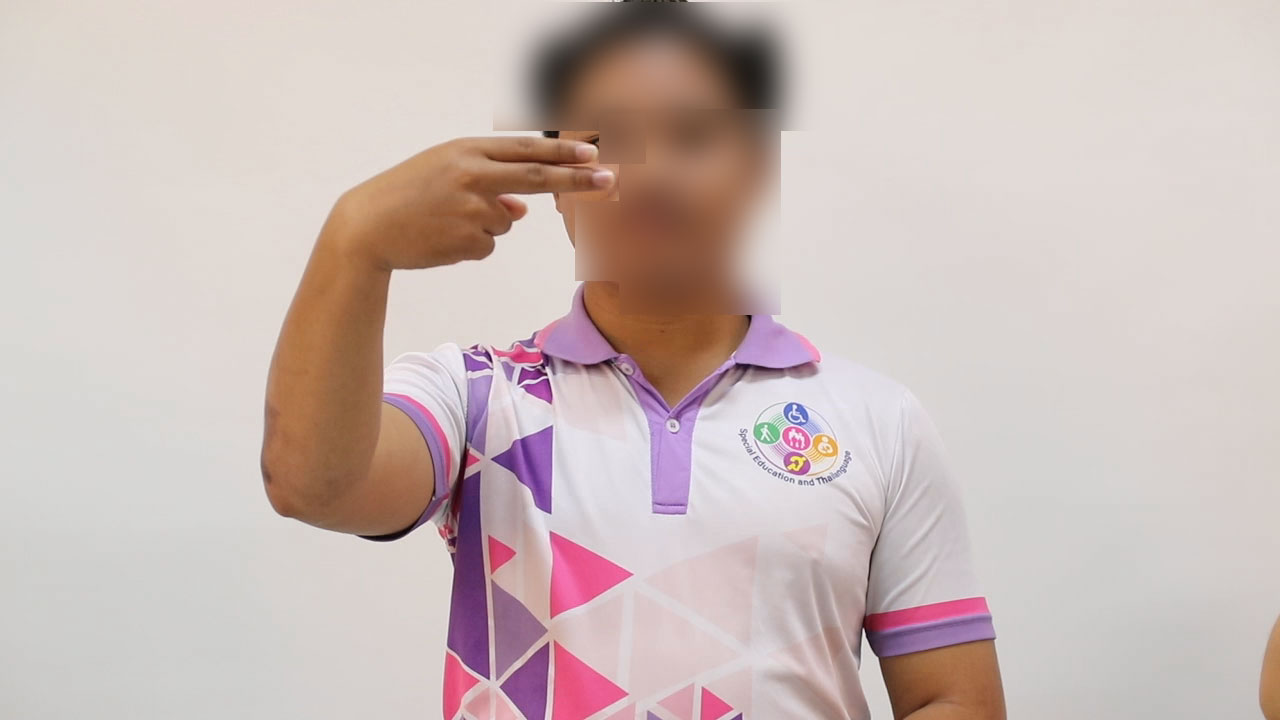hor: (321, 125, 624, 281)
